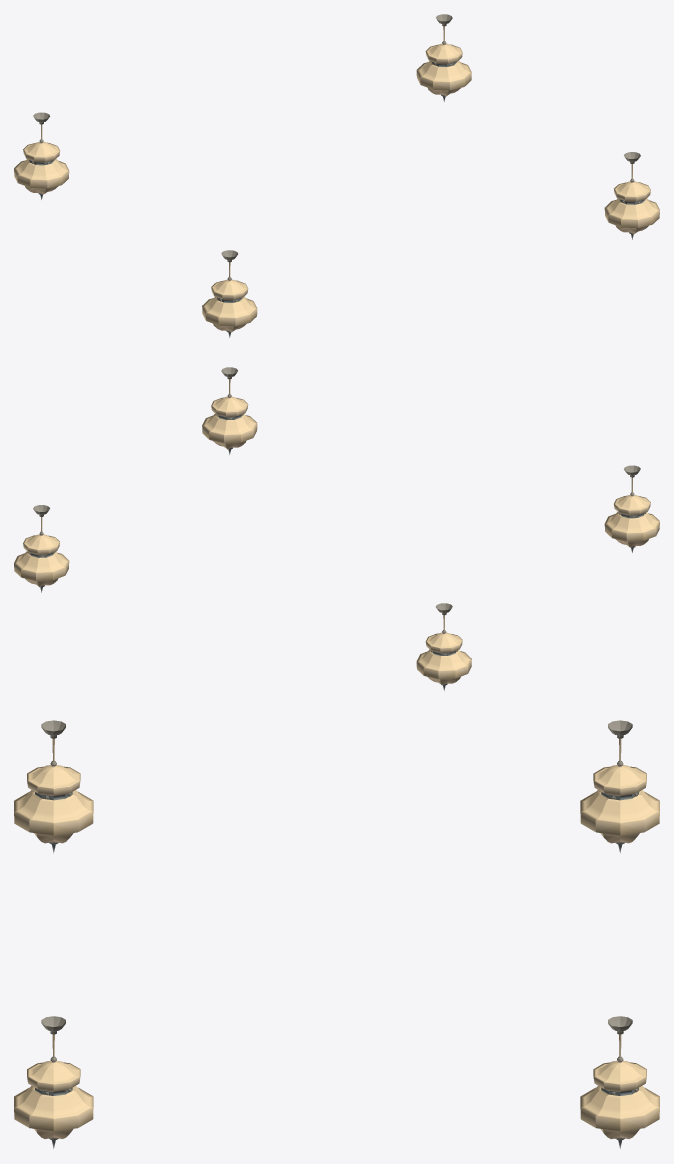
Rendered from lamp_ceiling_upstairs_merged.fbx.
3 renders of one model, top to bottom at view 1: azimuth 30°, elevation 25°; view 2: azimuth 150°, elevation 25°; view 3: azimuth 270°, elevation 25°, orthographic. The views are drawn at different scales.
Visible parts, largest first — view 1: lamp_ceiling_upstairs5; view 2: lamp_ceiling_upstairs5; view 3: lamp_ceiling_upstairs5.
Boxes of the visible parts, box(x1,y1,x2,y2) form: lamp_ceiling_upstairs5: box(14, 14, 659, 337); lamp_ceiling_upstairs5: box(14, 367, 659, 690); lamp_ceiling_upstairs5: box(14, 720, 659, 1148).
Size of the model in its own units: 438 by 79.01 by 362.
1 material, 1 textured.
